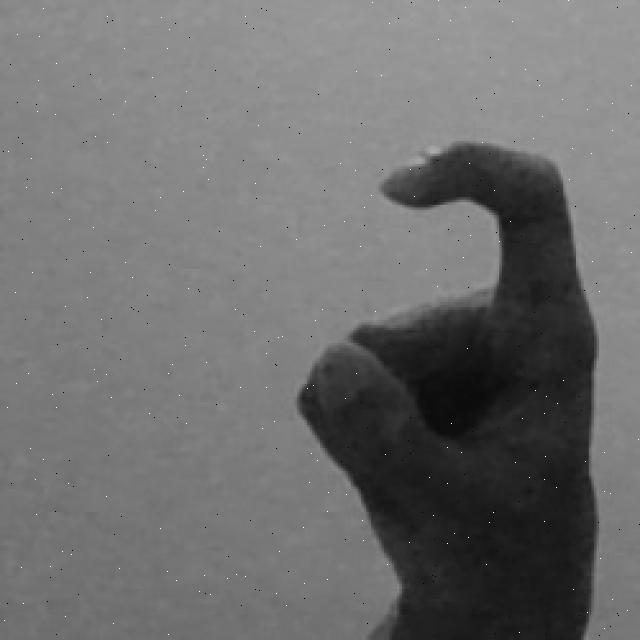X: (285, 129, 604, 640)
